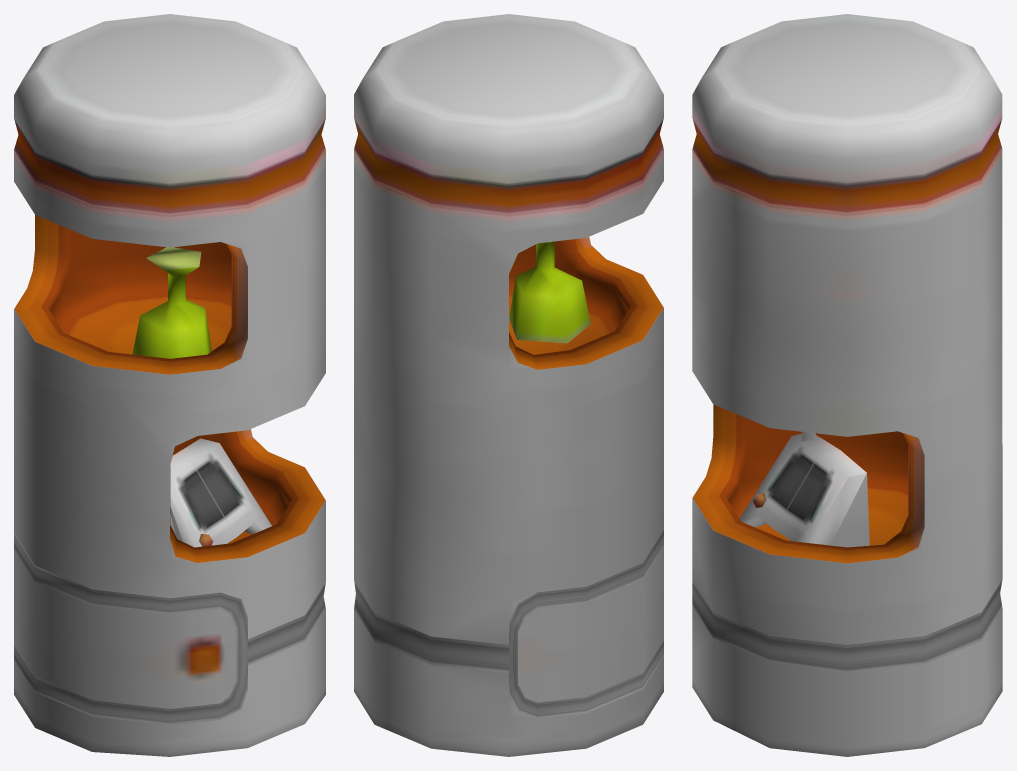
The model's file is rmk_fut_shelf.dae.
The picture shows the model from 3 angles, left to right: view 1: azimuth 30°, elevation 25°; view 2: azimuth 150°, elevation 25°; view 3: azimuth 270°, elevation 25°; orthographic projection.
Parts seen in each view (by area): view 1: rmk_fut_shelf; view 2: rmk_fut_shelf; view 3: rmk_fut_shelf.
Part boxes in pixels (box(x1,y1,x2,y2)): rmk_fut_shelf: box(14, 14, 325, 756); rmk_fut_shelf: box(354, 14, 663, 756); rmk_fut_shelf: box(692, 14, 1002, 756).
Bounding box in the file's own units: 18.66 × 41.3 × 18.66.
1 material, 1 textured.
